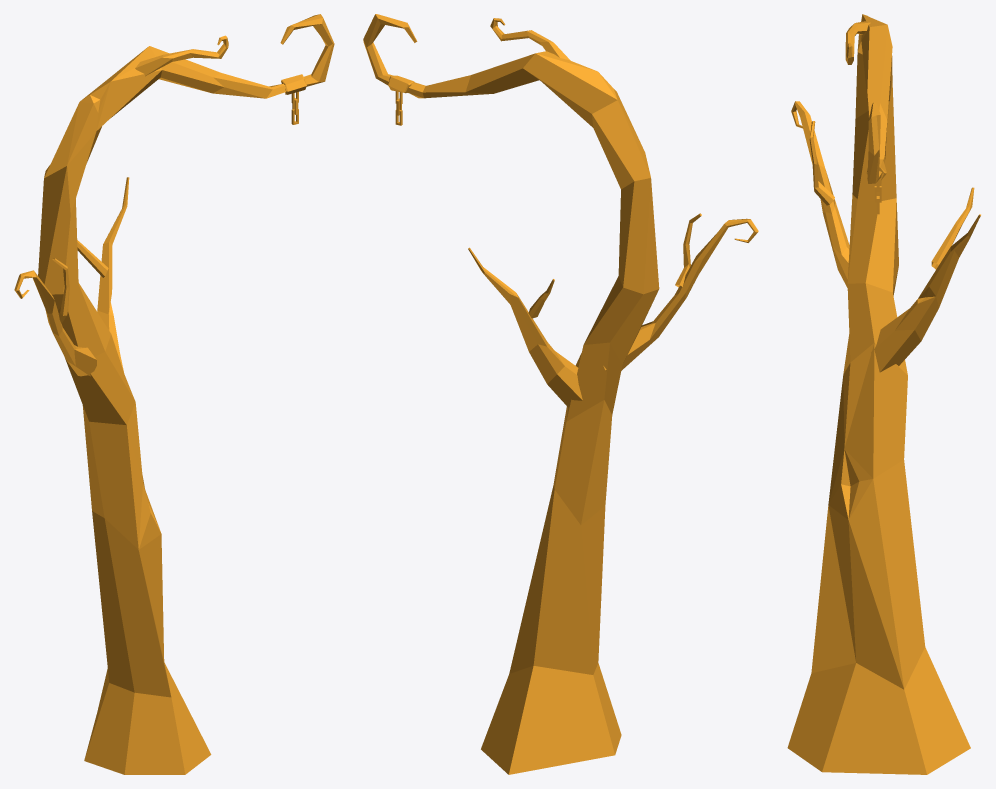
File: SM_Lamp_Street_B_Fantasy.fbx
The picture shows the model from 3 angles, left to right: view 1: azimuth 30°, elevation 25°; view 2: azimuth 150°, elevation 25°; view 3: azimuth 270°, elevation 25°; orthographic projection. The views are drawn at different scales.
Visible parts, largest first — view 1: lamp-street-b-fantasy; view 2: lamp-street-b-fantasy; view 3: lamp-street-b-fantasy.
Boxes of the visible parts, x1,y1,x2,y2 form: lamp-street-b-fantasy: (14, 14, 334, 774); lamp-street-b-fantasy: (363, 14, 758, 774); lamp-street-b-fantasy: (787, 14, 980, 774).
Bounding box in the file's own units: 2.31 × 4.33 × 1.03.
